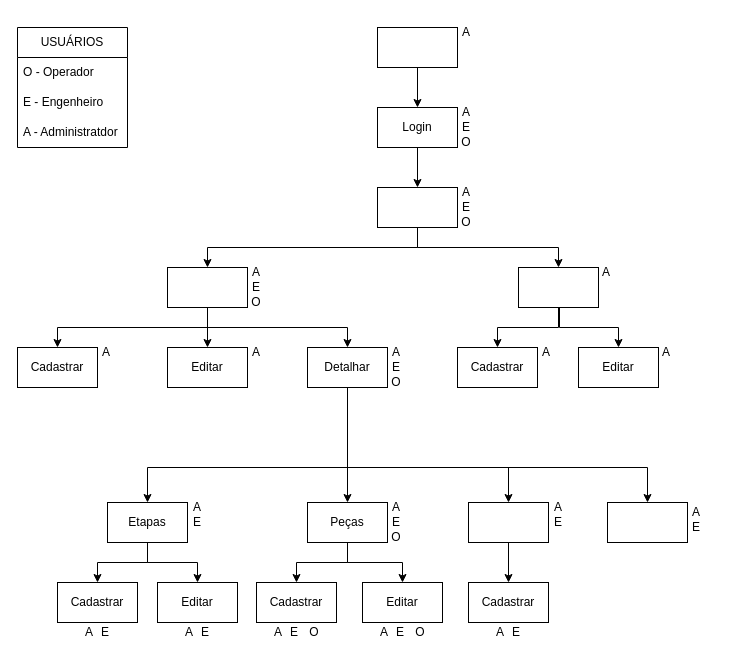
Some shapes in this 729 by 664 pixel diagram are drawn without their labels. The shapes that lost their labels are listed below. From the top down, each one's centre as x and y in pixels, then its label:
point 417,47: Setup de Acesso
point 417,207: Dashboard HOME
point 207,287: Aeronaves
point 558,287: Funcionários
point 508,522: Testes
point 647,522: Relatório
